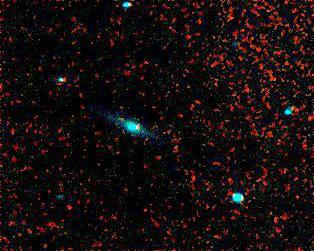star: (158, 131, 188, 161)
